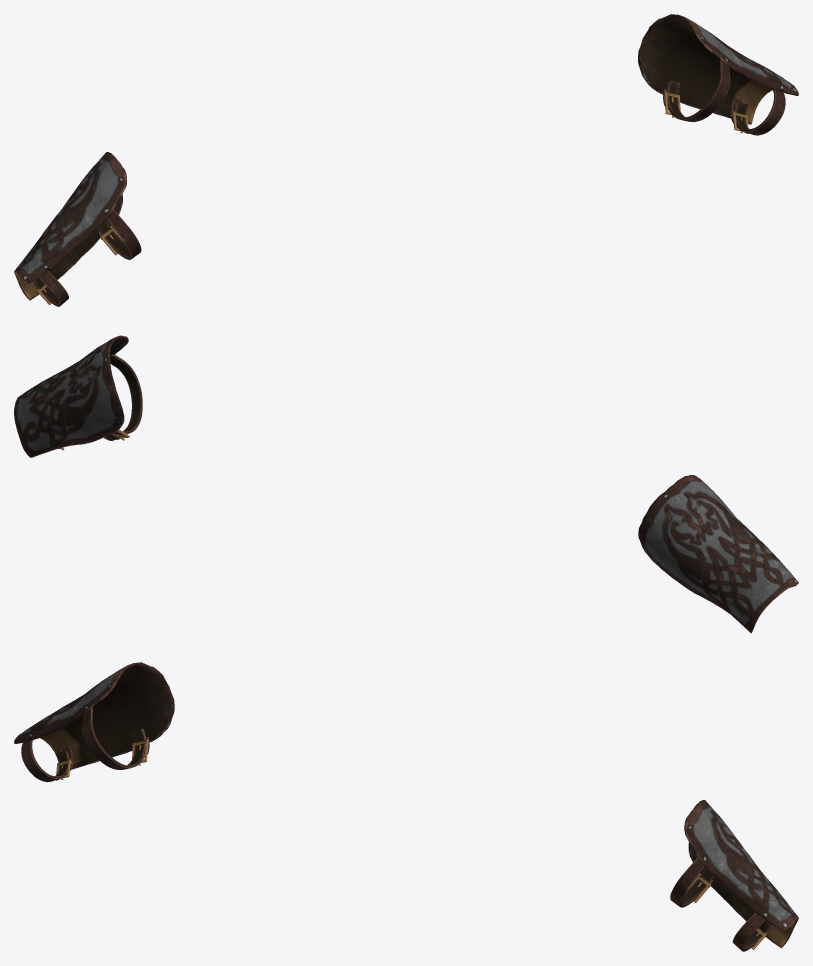
The model's file is cts_rohan_captain_bracers1.fbx.
3 views of the same model, one above another, from view 1: azimuth 30°, elevation 25°; view 2: azimuth 150°, elevation 25°; view 3: azimuth 330°, elevation 25° (orthographic).
Parts seen in each view (by area): view 1: cts_rohan_captain_bracers1; view 2: cts_rohan_captain_bracers1; view 3: cts_rohan_captain_bracers1.
Part boxes in pixels (left/top/right/bottom): cts_rohan_captain_bracers1: left=14, top=14, right=798, bottom=306; cts_rohan_captain_bracers1: left=14, top=335, right=798, bottom=633; cts_rohan_captain_bracers1: left=14, top=662, right=798, bottom=951.
Bounding box in the file's own units: 1.36 × 0.1455 × 0.2219.
